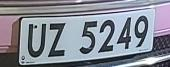2: (97, 15, 117, 56)
4: (117, 15, 133, 52)
5: (79, 16, 97, 58)
9: (133, 14, 149, 50)
U: (25, 20, 49, 59)
Z: (45, 19, 70, 59)
